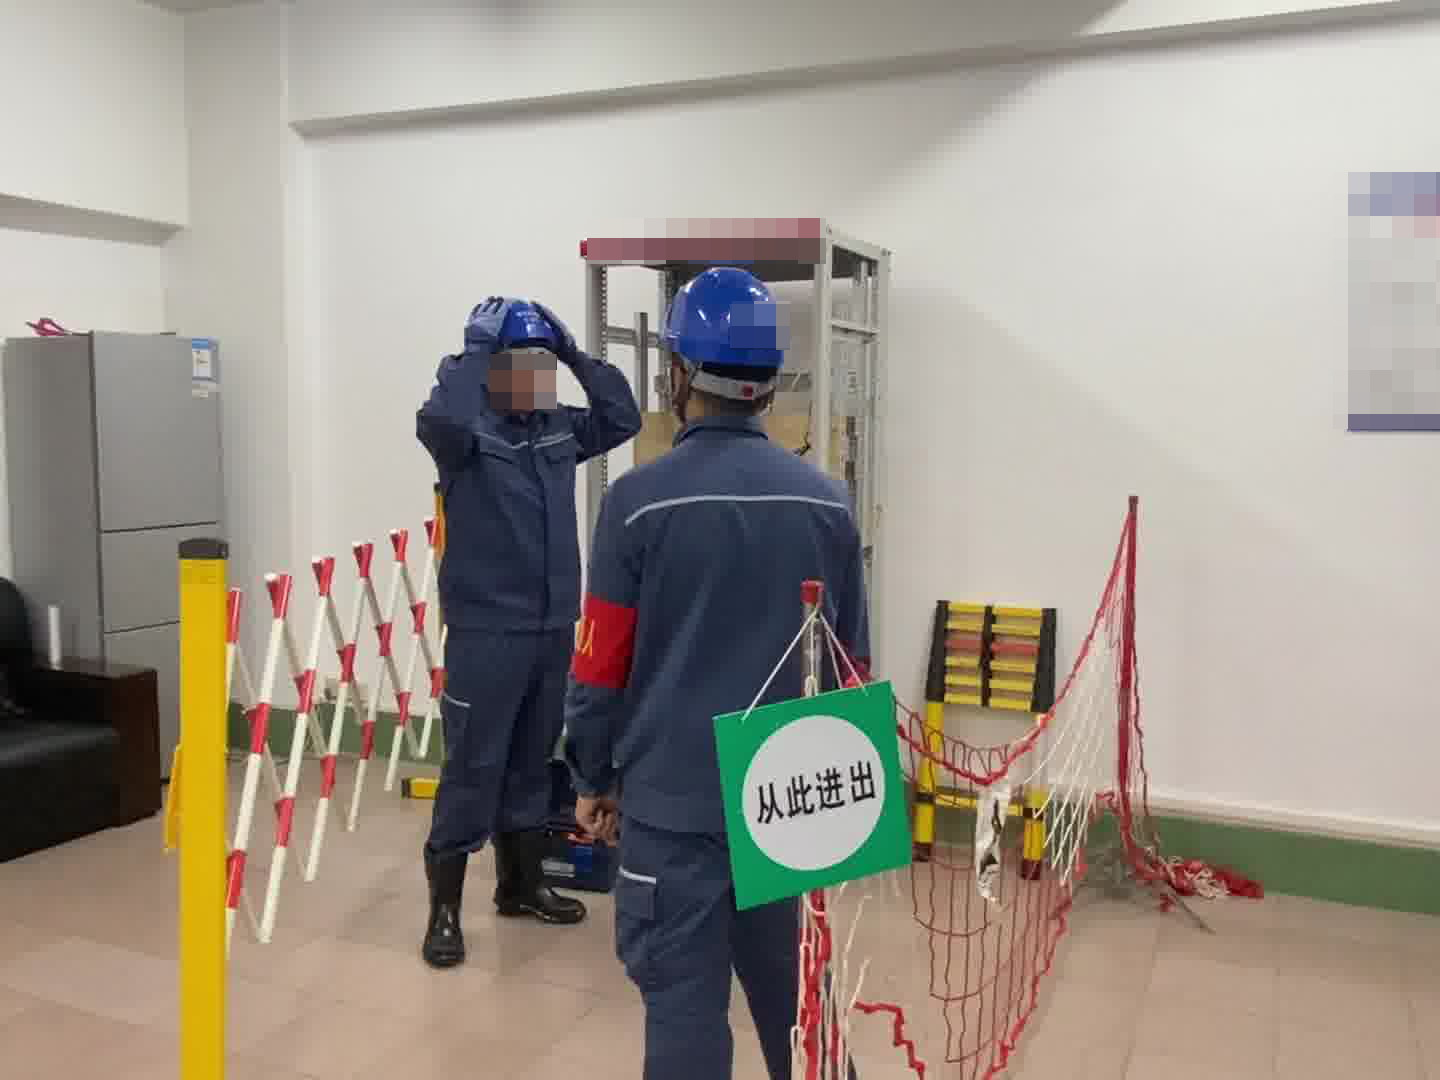badge: (570, 593, 641, 691)
downsuit: (606, 840, 796, 1080), (427, 633, 564, 854)
fhalt: (471, 299, 558, 414)
glove: (461, 294, 515, 357), (538, 306, 578, 366)
halt: (662, 264, 789, 419)
hand: (575, 794, 620, 848)
inear: (658, 348, 705, 417)
intosign: (705, 677, 923, 920)
person: (559, 258, 878, 1080), (401, 288, 623, 970)
shoe: (421, 832, 583, 965)
upsuit: (569, 417, 870, 834), (409, 334, 642, 633)
